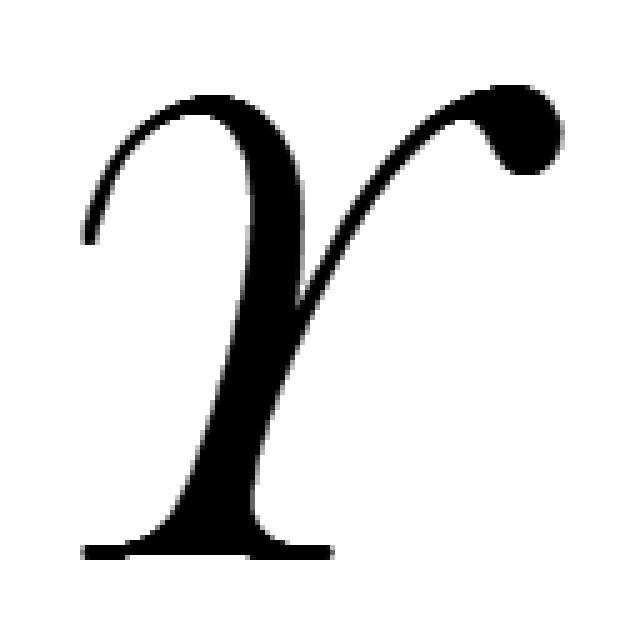Y: (70, 70, 565, 565)
